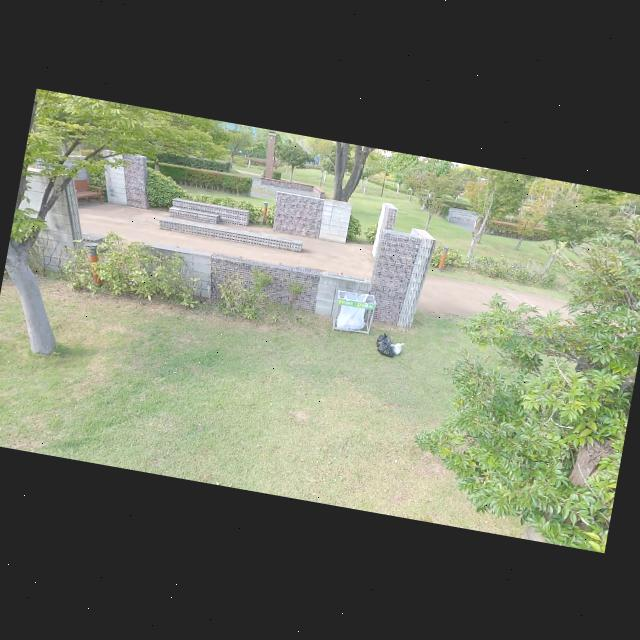trash: (374, 330, 394, 350), (376, 340, 396, 358), (388, 340, 405, 356)
